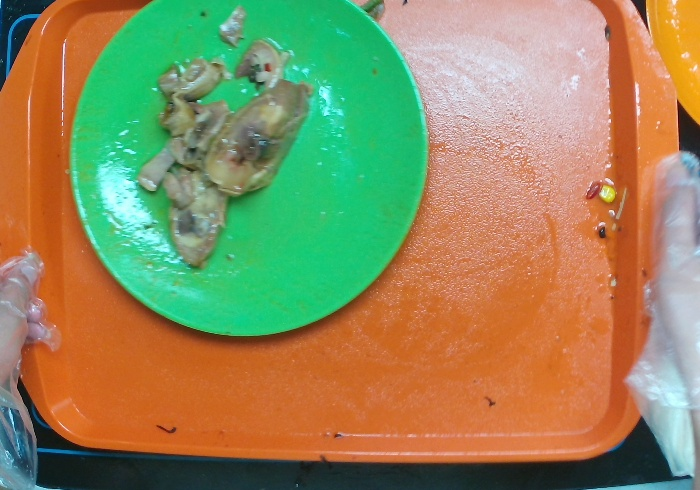HZYJPL-Lv_Se_Yuan_Pan: (68, 1, 432, 339)
